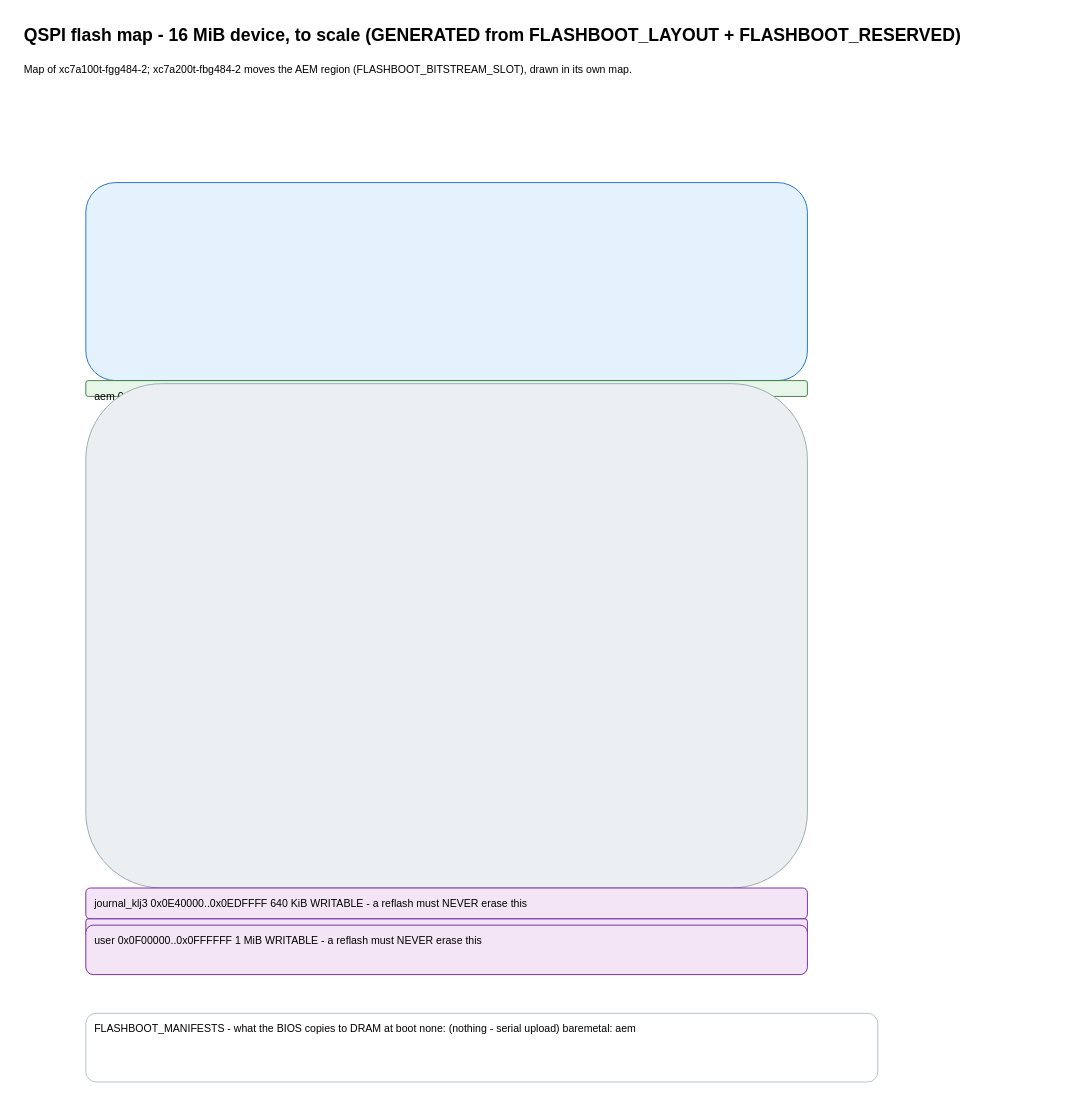
Some shapes in this 1086 by 1097 pixel diagram are drawn without their labels. The centre of each missing label's shape, as x and y in pixels:
"(free) 0x0410000..0x0E3FFFF 10.19 MiB" belongs at [446,635].
"bitstream 0x0000000..0x03FFFFF 4 MiB -> DRAM 0x00000000" belongs at [446,281].
